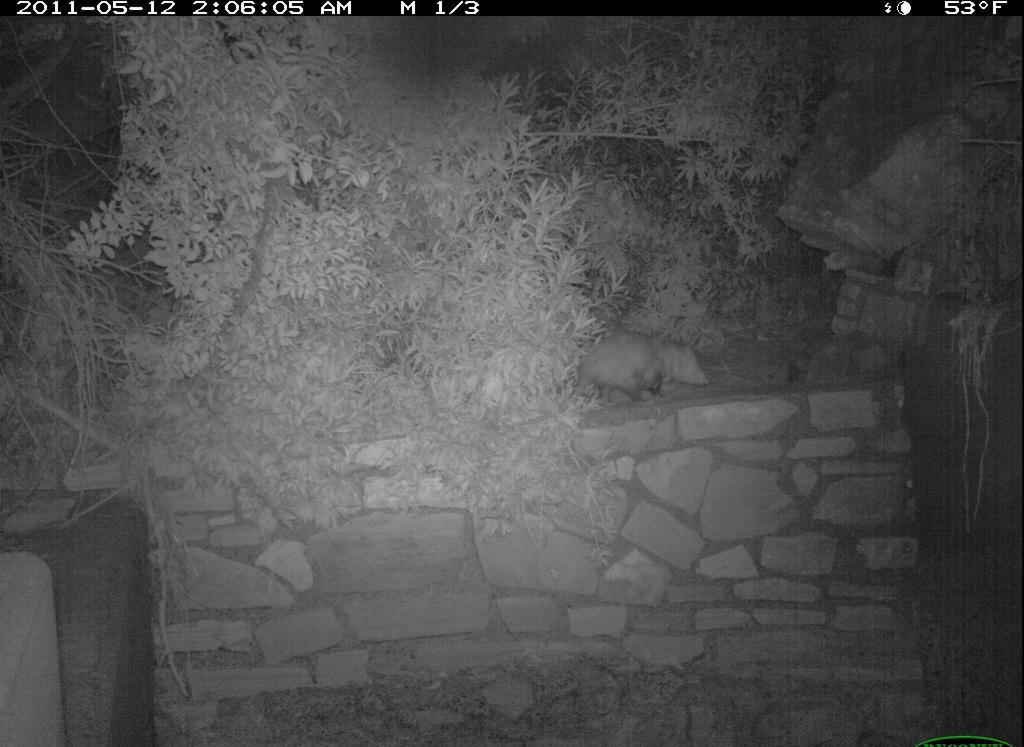opossum: (527, 319, 719, 420)
